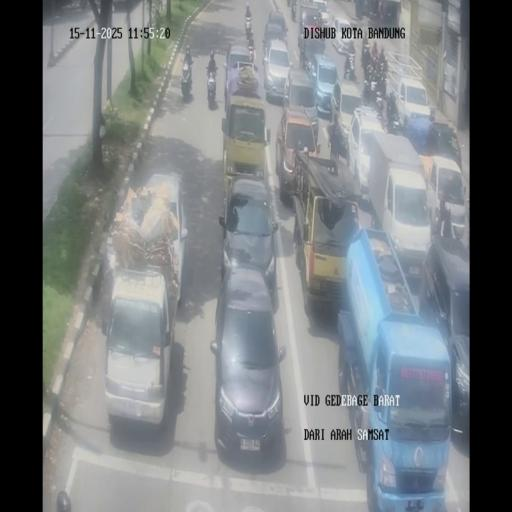3: (338, 232, 450, 506), (290, 148, 362, 310), (362, 133, 431, 276)
car: (210, 270, 286, 464), (102, 268, 174, 430), (217, 177, 279, 298), (136, 172, 188, 305), (221, 92, 268, 196), (424, 155, 467, 242), (223, 42, 256, 111), (393, 76, 432, 130), (308, 52, 338, 118), (262, 38, 292, 102), (299, 16, 326, 62), (333, 15, 356, 55), (264, 11, 287, 44), (309, 0, 329, 26)
truck: (330, 117, 349, 161), (180, 56, 194, 99), (206, 61, 218, 104), (386, 107, 402, 136), (344, 54, 357, 82), (374, 90, 385, 123), (361, 78, 372, 106), (361, 40, 371, 68), (247, 34, 256, 64), (244, 16, 253, 40), (297, 23, 303, 51), (299, 46, 306, 69), (370, 78, 378, 98), (290, 0, 297, 22), (300, 8, 308, 26), (79, 0, 87, 10), (284, 30, 288, 44)
